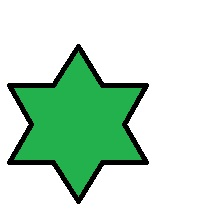star: (7, 44, 149, 204)
